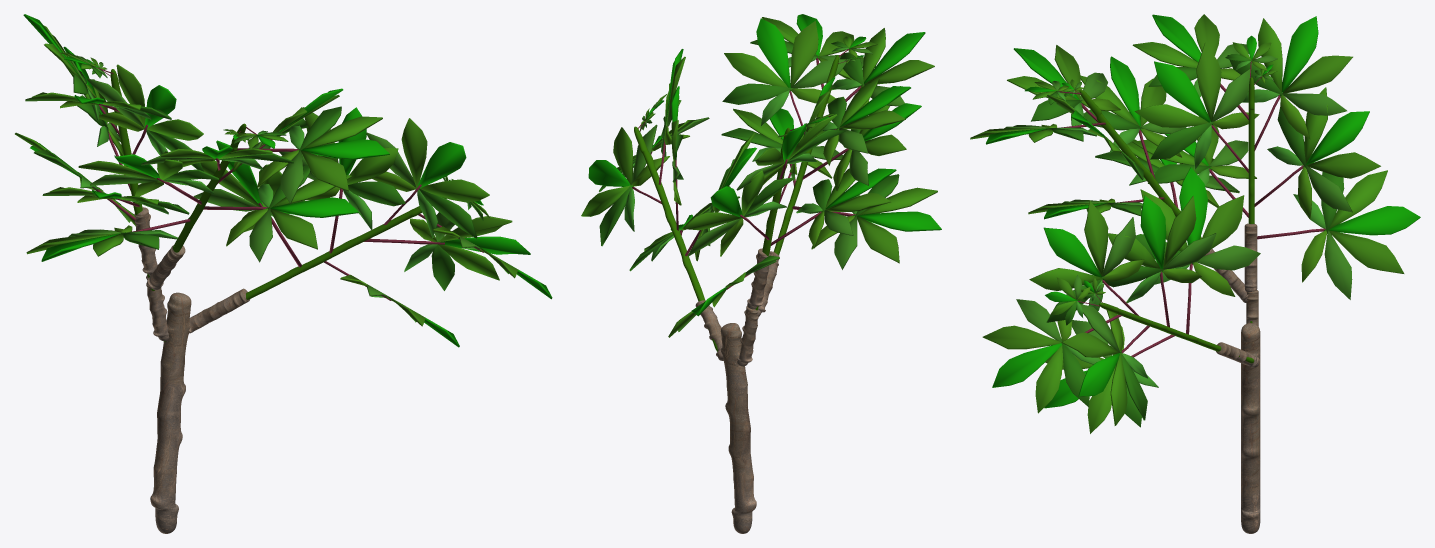
Rendered from casava_5.glb.
3 views of the same model, side by side, from view 1: azimuth 30°, elevation 25°; view 2: azimuth 150°, elevation 25°; view 3: azimuth 270°, elevation 25° (orthographic). The views are drawn at different scales.
Parts seen in each view (by area): view 1: Plane, Plane.066, Plane.091, Plane.239, Plane.271, Plane.092, Plane.093, Plane.272, Plane.240, Plane.238, Plane.083, Plane.078 (+20 smaller); view 2: Plane, Plane.066, Plane.255, Plane.295, Plane.256, Plane.257, Plane.296, Plane.238, Plane.258, Plane.263, Plane.297, Plane.264 (+36 smaller); view 3: Plane, Plane.172, Plane.173, Plane.034, Plane.026, Plane.018, Plane.099, Plane.091, Plane.035, Plane.174, Plane.075, Plane.027 (+49 smaller).
Boxes of the visible parts, x1,y1,x2,y2 form: Plane: (150,292,191,533); Plane.066: (246,198,446,299); Plane.091: (417,142,466,188); Plane.239: (266,197,358,217); Plane.271: (297,139,389,159); Plane.092: (401,118,427,187); Plane.093: (420,179,489,202); Plane.272: (301,150,348,191); Plane.240: (270,209,317,249); Plane.238: (151,123,246,290); Plane.083: (437,236,530,254); Plane.078: (348,181,405,206); Plane: (720,323,756,533); Plane.066: (634,126,717,351); Plane.255: (756,18,791,91); Plane.295: (853,211,941,231); Plane.256: (790,21,818,87); Plane.257: (724,53,791,89); Plane.296: (857,216,899,263); Plane.238: (773,55,839,254); Plane.258: (722,83,793,104); Plane.263: (861,32,925,86); Plane.297: (858,187,937,215); Plane.264: (865,60,934,84); Plane: (1241,323,1260,533); Plane.172: (1324,206,1420,235); Plane.173: (1329,230,1404,273); Plane.034: (1280,16,1318,96); Plane.026: (1154,61,1213,125); Plane.018: (1302,111,1369,167); Plane.099: (992,343,1061,387); Plane.091: (1043,227,1103,279); Plane.035: (1282,55,1352,93); Plane.174: (1326,170,1387,230); Plane.075: (1140,195,1166,272); Plane.027: (1196,42,1221,121).
Bounding box in the file's own units: 9.14 × 10.14 × 8.81.
11 materials, 1 textured.
